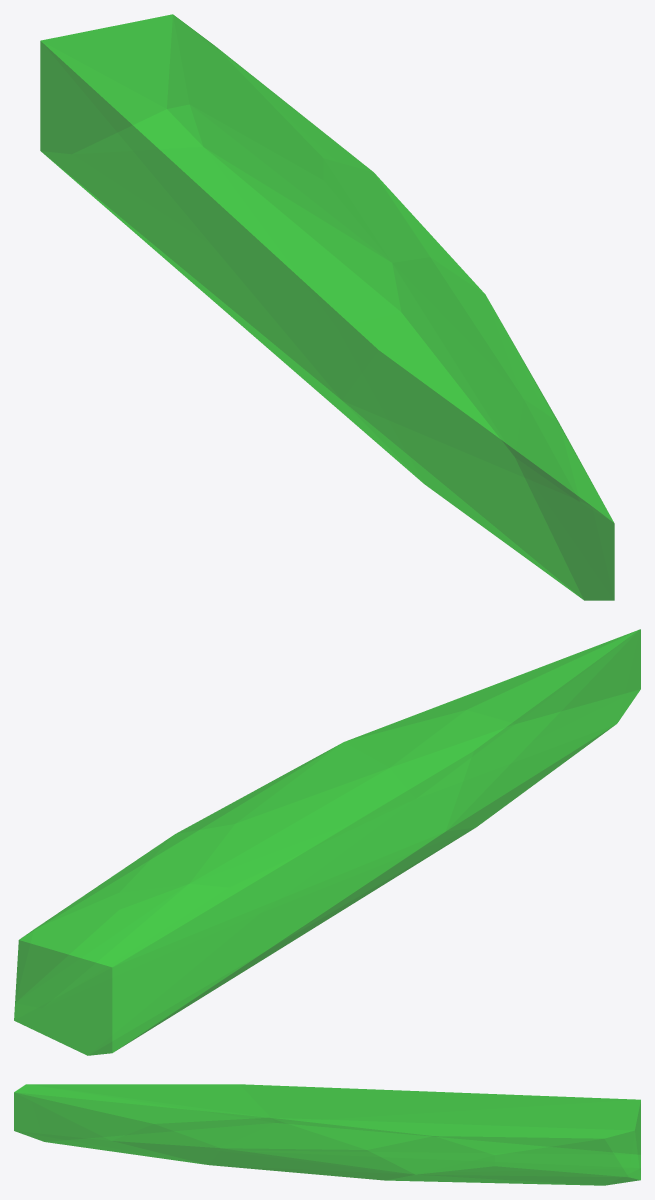
The picture shows the model from 3 angles, top to bottom: view 1: azimuth 30°, elevation 25°; view 2: azimuth 150°, elevation 25°; view 3: azimuth 270°, elevation 25°; orthographic projection. The views are drawn at different scales.
Parts seen in each view (by area): view 1: Shape_IndexedFaceSet.034_Shape_IndexedFaceSet.9045; view 2: Shape_IndexedFaceSet.034_Shape_IndexedFaceSet.9045; view 3: Shape_IndexedFaceSet.034_Shape_IndexedFaceSet.9045.
Part boxes in pixels (<box>): Shape_IndexedFaceSet.034_Shape_IndexedFaceSet.9045: <box>40,14,614,600</box>; Shape_IndexedFaceSet.034_Shape_IndexedFaceSet.9045: <box>14,629,640,1055</box>; Shape_IndexedFaceSet.034_Shape_IndexedFaceSet.9045: <box>14,1084,640,1185</box>.
Bounding box in the file's own units: 0.0442 × 0.0256 × 0.2396.
